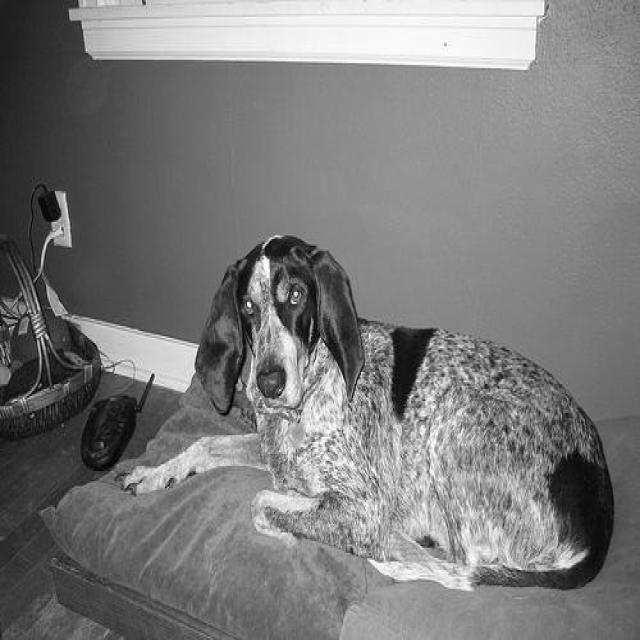laying down: (116, 231, 619, 592)
